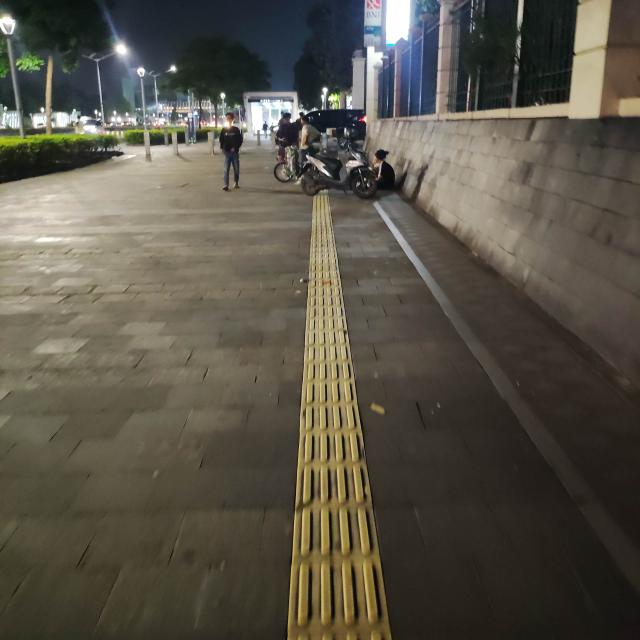lurus: (291, 214, 384, 640)
